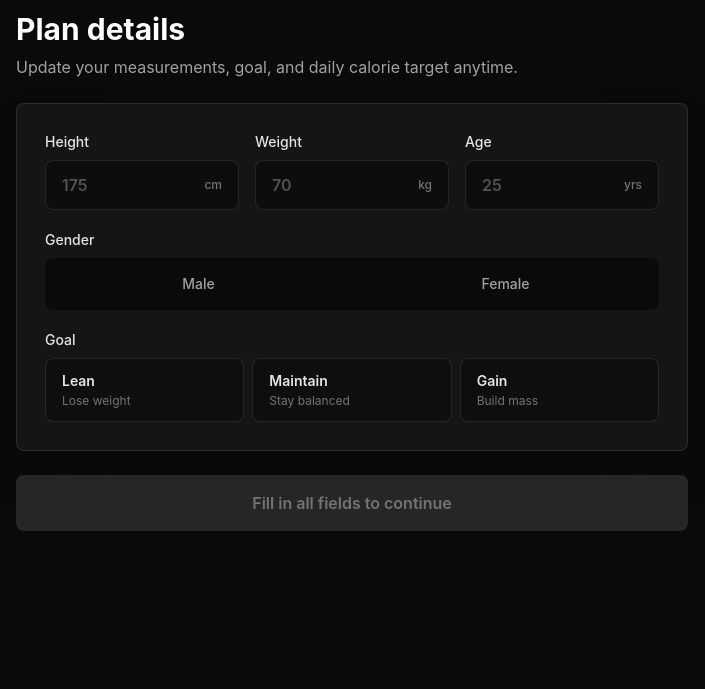
Test: BMIPage › shows the BMI result after height and weight are entered
In the number field labelled "Height cm": (129, 185) [62,173,196,197], type "180"
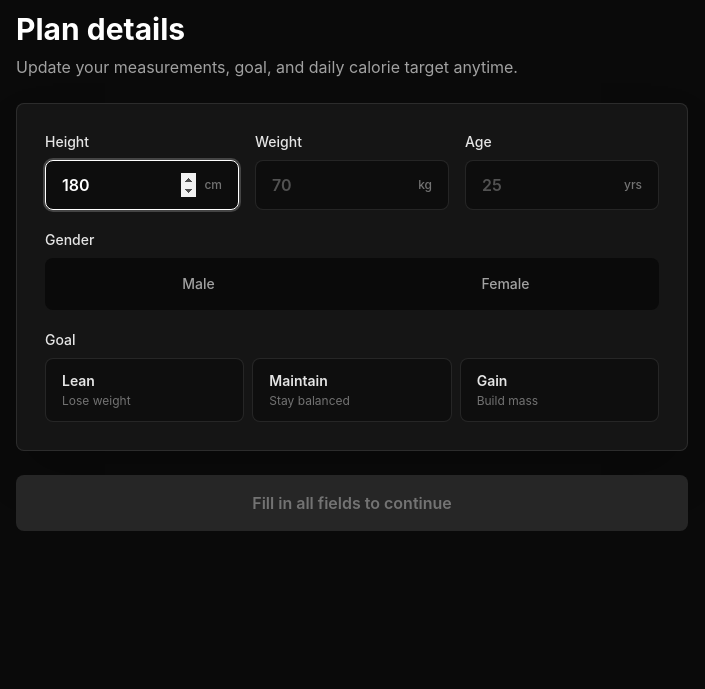
In the number field labelled "Weight kg": (341, 185) [272,173,410,197], type "80"
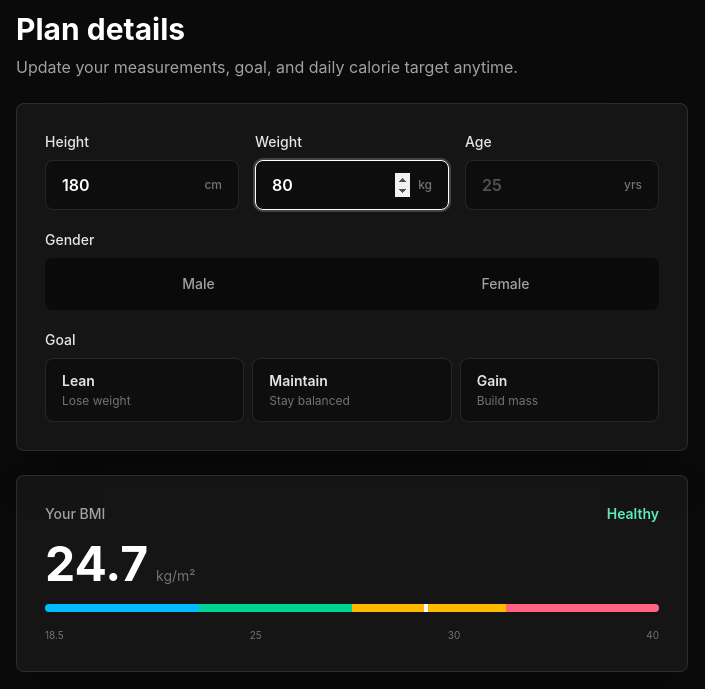
Now the text "24.7" is shown, box [45,540,148,588]
Now the text "Healthy" is shown, box [607,504,659,524]
